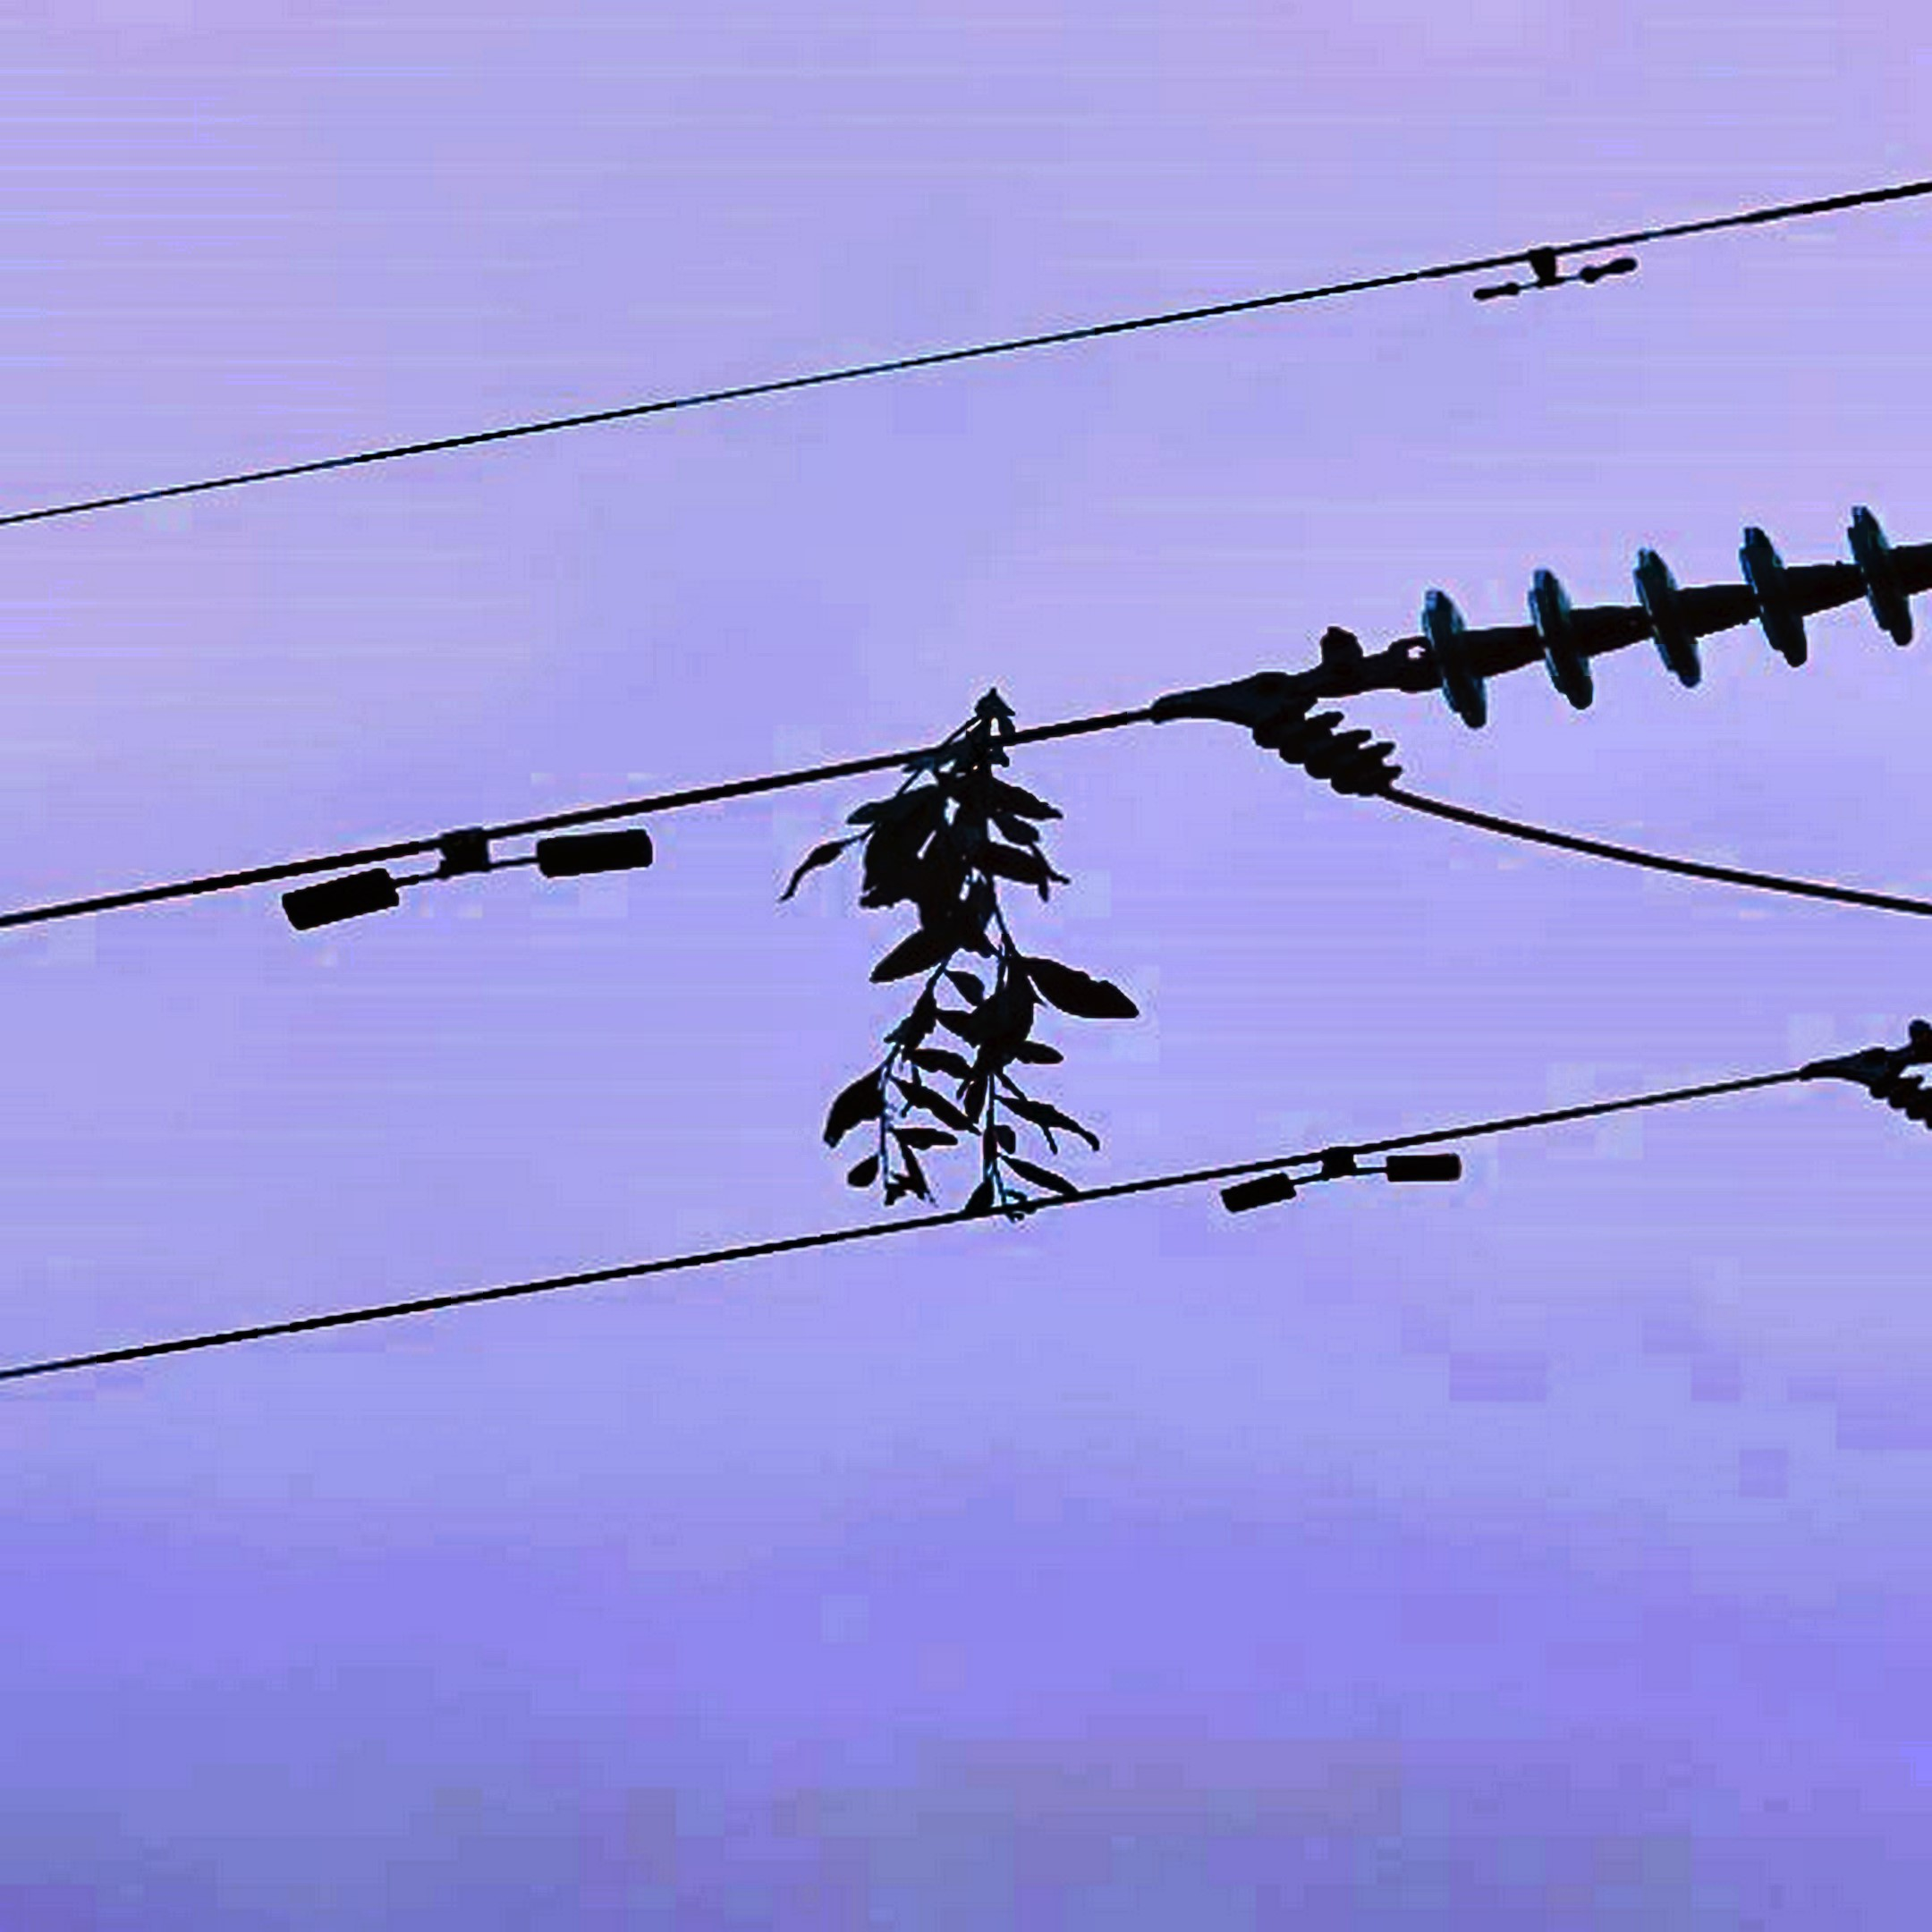wire foreign body: (768, 642, 1159, 1235)
